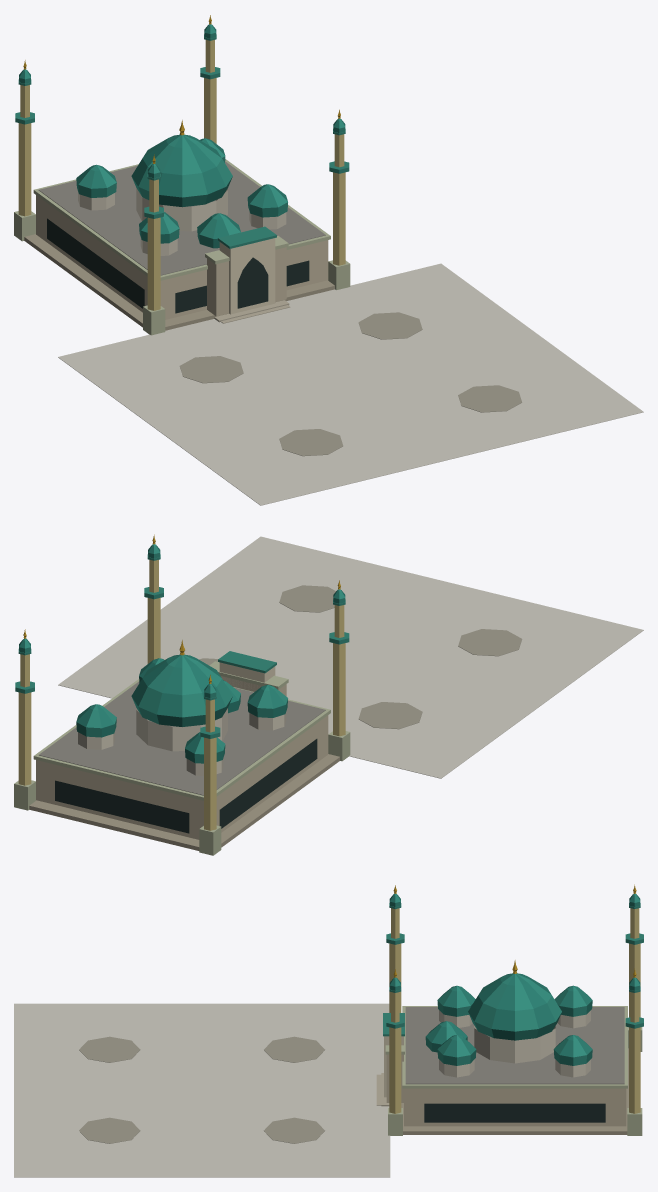
File: an-nur-lod1.glb
The picture shows the model from 3 angles, top to bottom: view 1: azimuth 30°, elevation 25°; view 2: azimuth 150°, elevation 25°; view 3: azimuth 270°, elevation 25°; orthographic projection. The views are drawn at different scales.
Parts seen in each view (by area): view 1: AnNur_LOD1; view 2: AnNur_LOD1; view 3: AnNur_LOD1.
Boxes of the visible parts, x1,y1,x2,y2 form: AnNur_LOD1: (14,15,643,505); AnNur_LOD1: (14,534,643,855); AnNur_LOD1: (14,884,643,1177).
Size of the model in its own units: 120 by 53.08 by 184.
